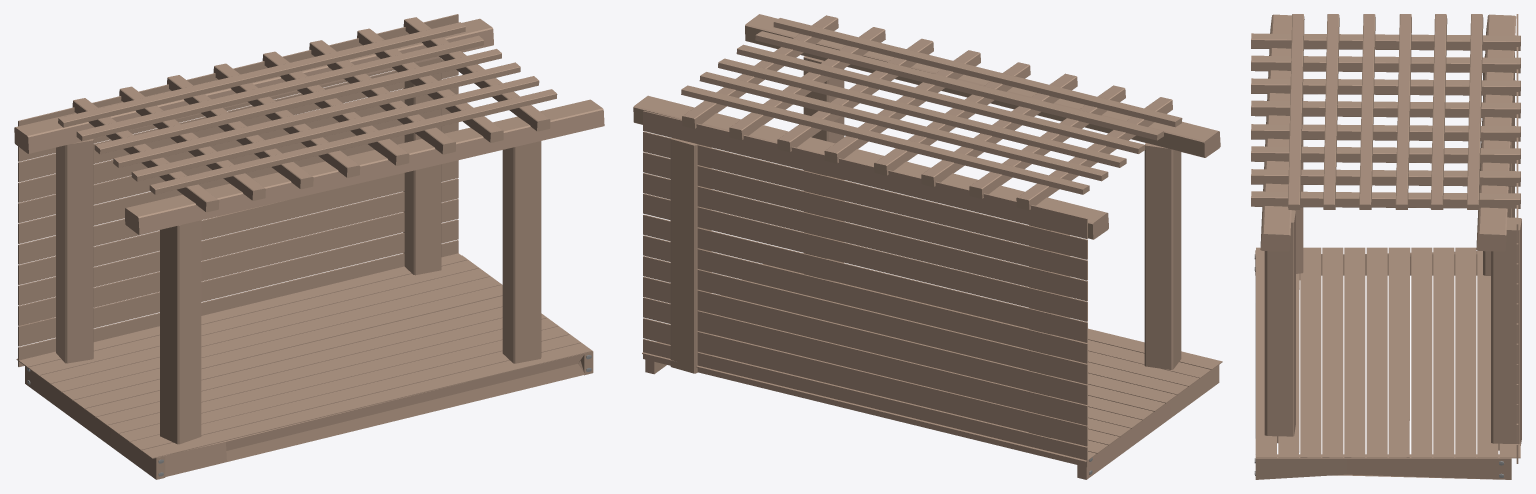
File: Gazeebo.fbx
3 views of the same model, side by side, from view 1: azimuth 30°, elevation 25°; view 2: azimuth 150°, elevation 25°; view 3: azimuth 270°, elevation 25° (orthographic). The views are drawn at different scales.
Visible parts, largest first — view 1: Gazeebo; view 2: Gazeebo; view 3: Gazeebo.
Part boxes in pixels (x1,y1,x2,y2): Gazeebo: (14,14,604,479); Gazeebo: (633,14,1222,479); Gazeebo: (1251,14,1521,479).
Size of the model in its own units: 507 by 264 by 286.
